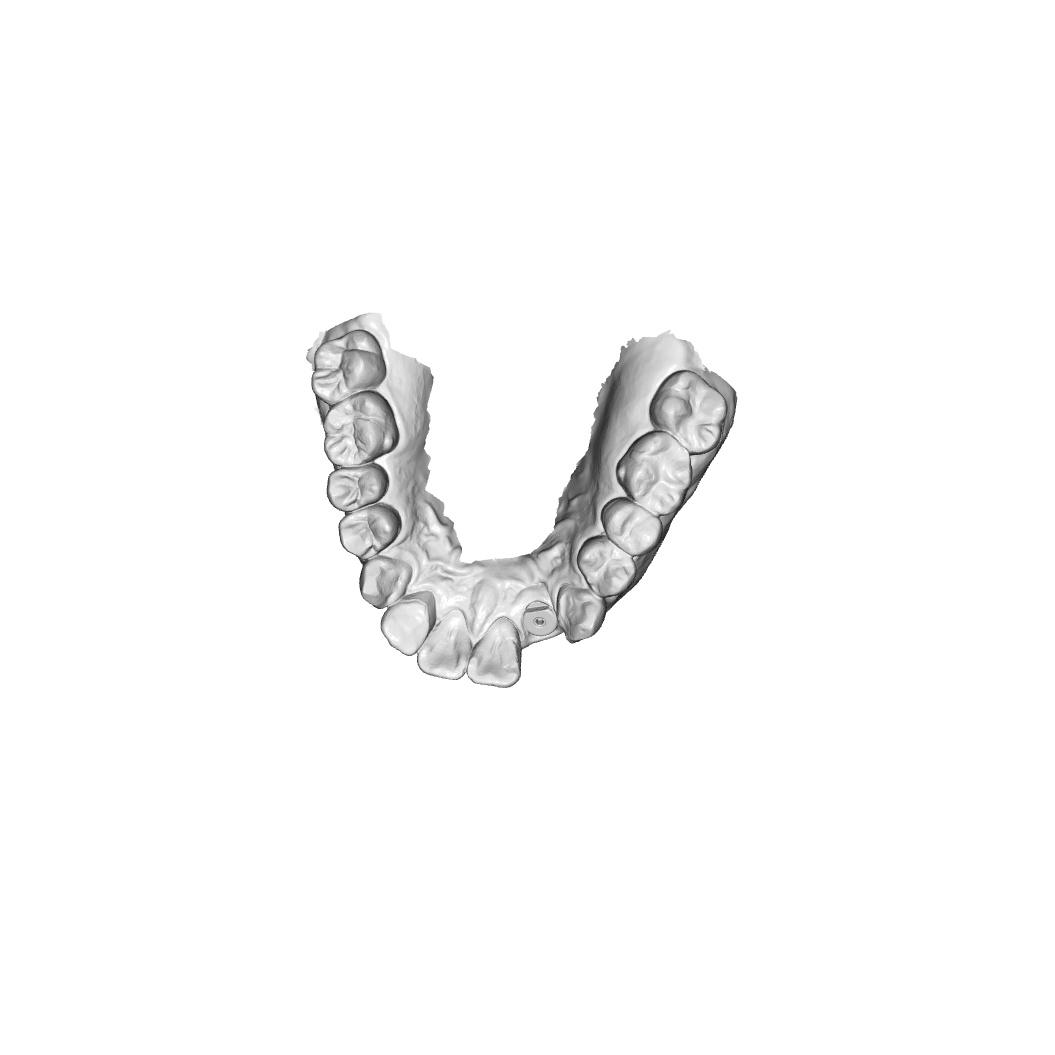canine: (557, 583, 609, 646), (358, 556, 414, 611)
implant: (521, 599, 558, 638)
incisor: (466, 616, 523, 688), (416, 607, 470, 681), (379, 598, 432, 657)
molar: (648, 369, 729, 455), (615, 431, 694, 517), (321, 389, 401, 468), (310, 328, 386, 407)
premolar: (576, 533, 638, 599), (337, 503, 404, 563), (601, 497, 664, 558), (325, 463, 390, 514)
